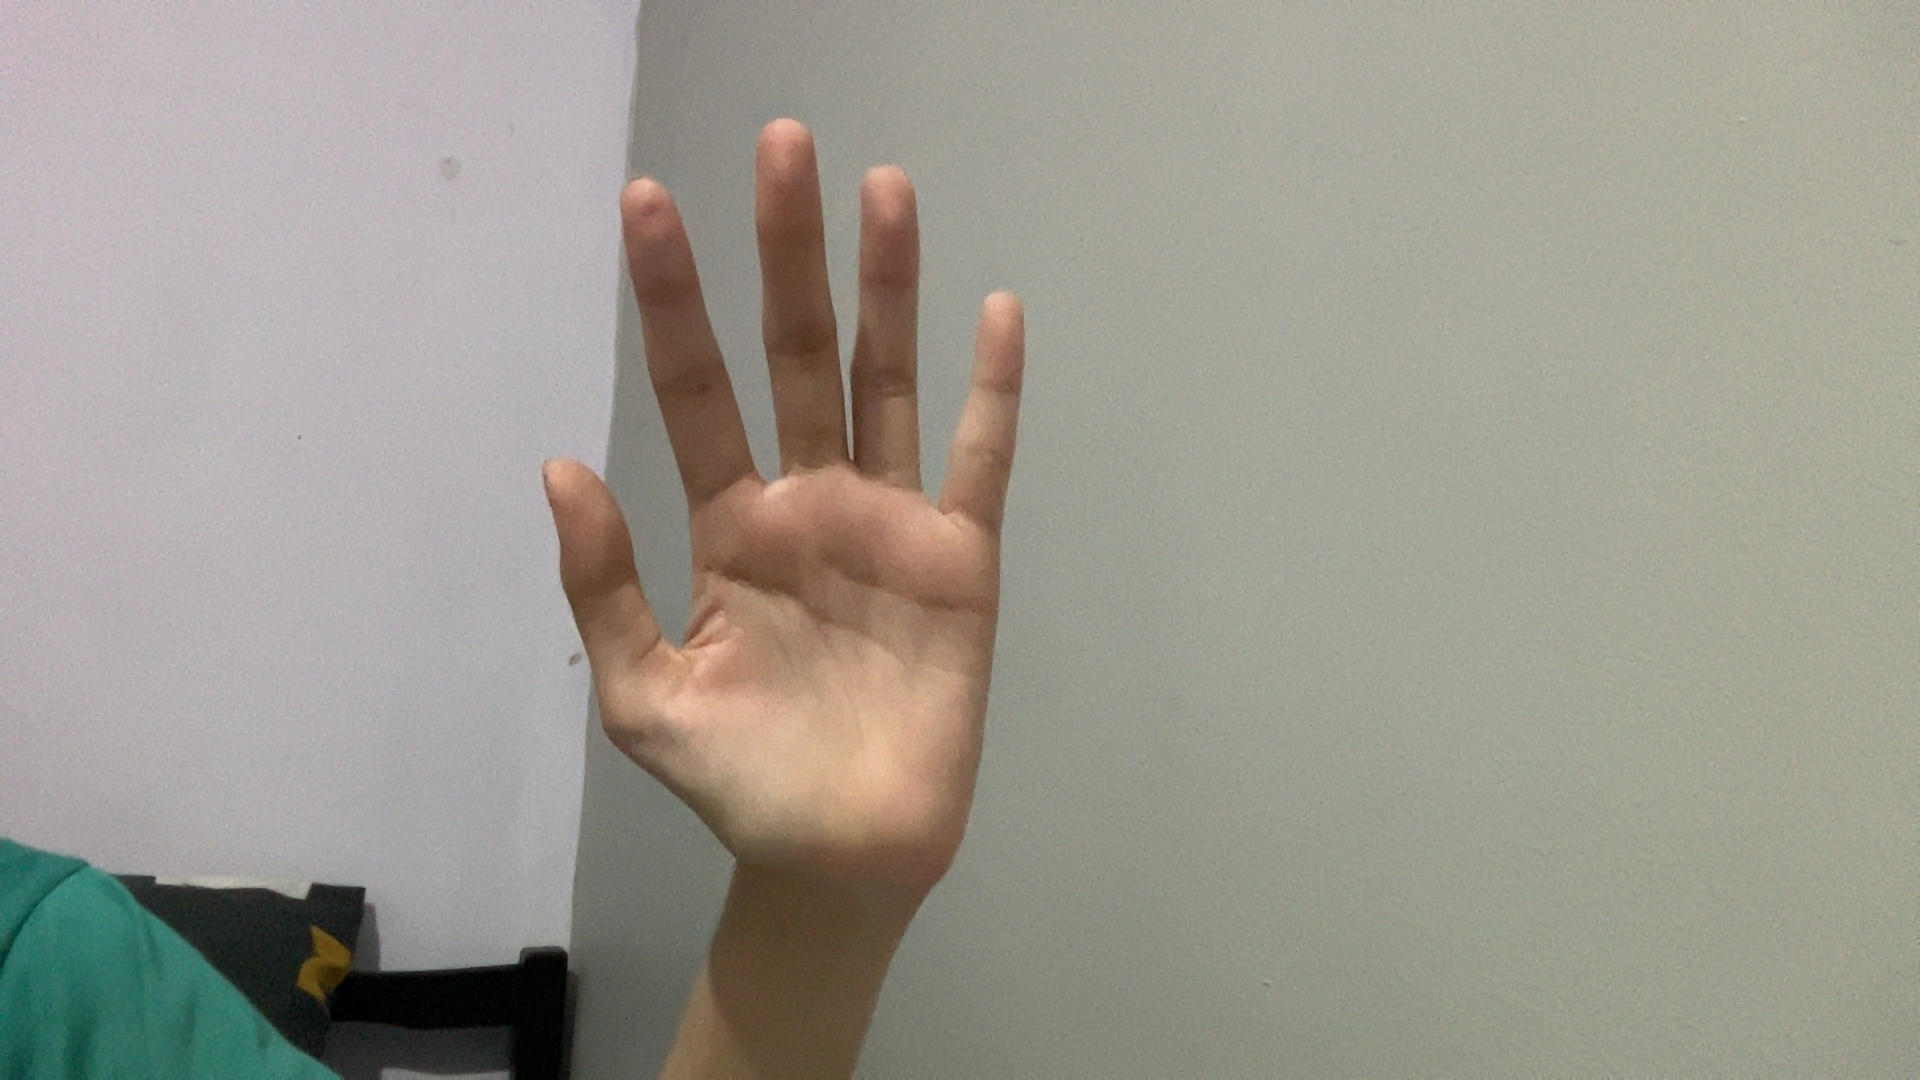Hello: (386, 98, 1193, 943)
